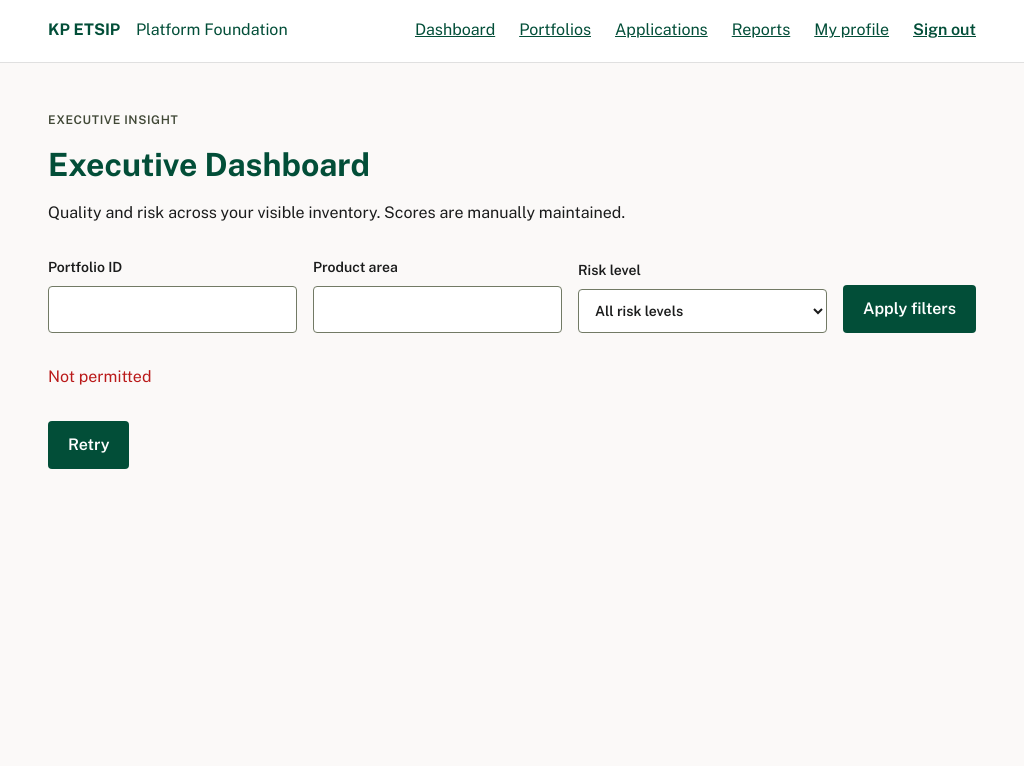
Test: executive dashboard › shows an error and allows a retry
The image size is (1024, 766).
Check: the message shows "Not permitted", box [48,367,152,386]
Click the button "Retry" at (89, 445), box [48,421,130,469]
(page scrolled)
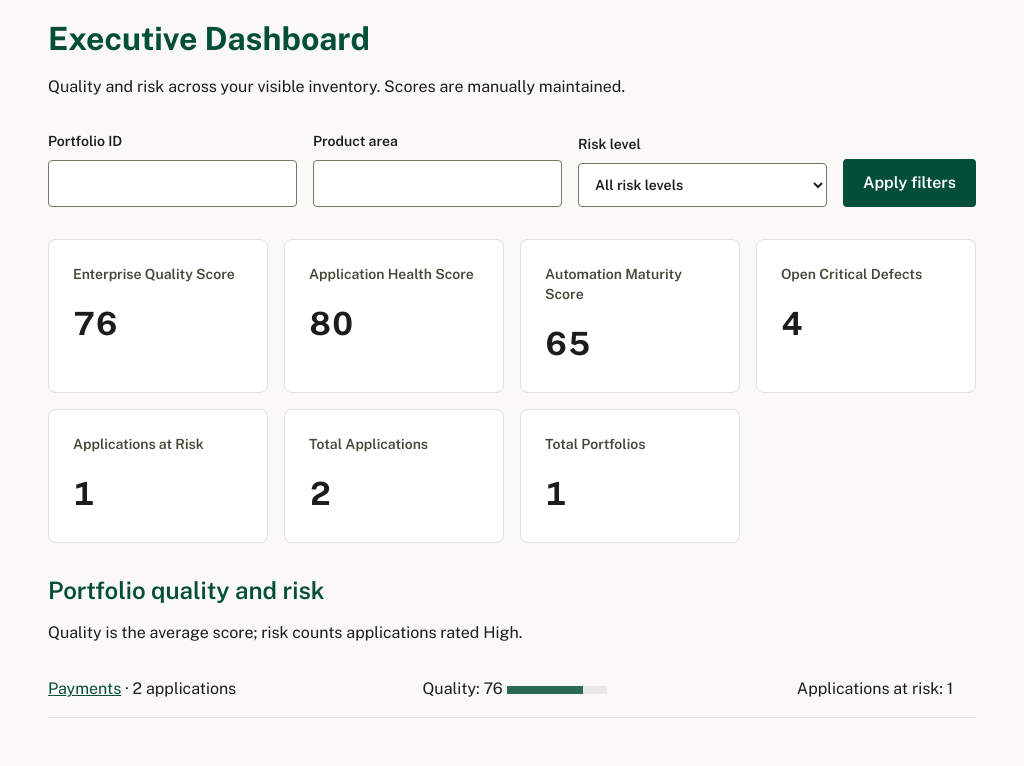
Check: the link "Payments" is shown, box [48,679,121,698]
